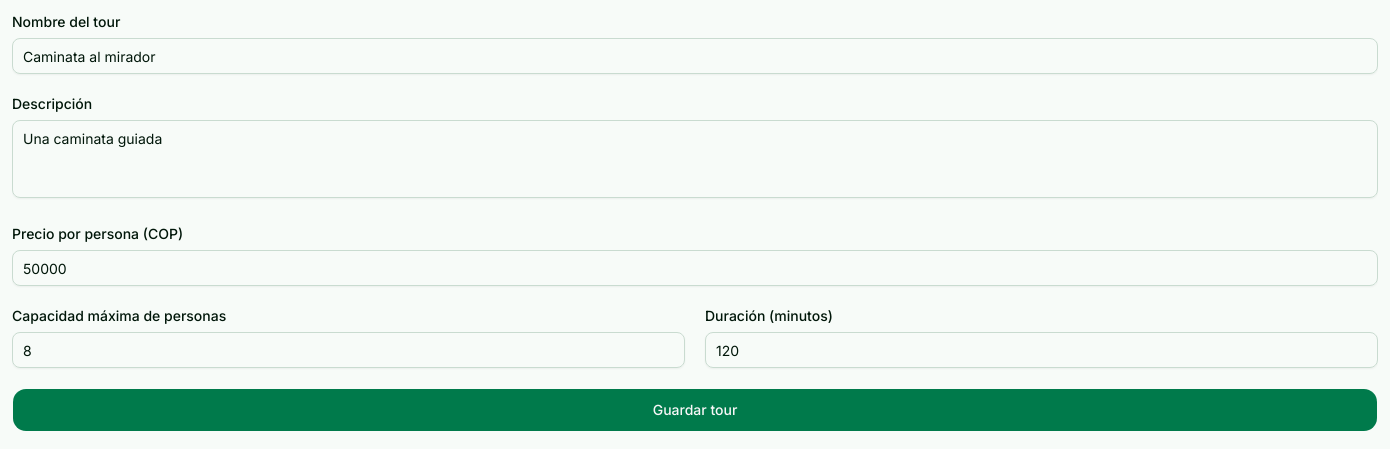
EditTourForm › disables the submit button and shows the pending label while the action is in flight
This screenshot has width=1390, height=449.
What coordinates should you click on to do the following:
click the button "Guardar tour"
I would click on:
 (695, 410)
Its box is [12,388,1378,432].
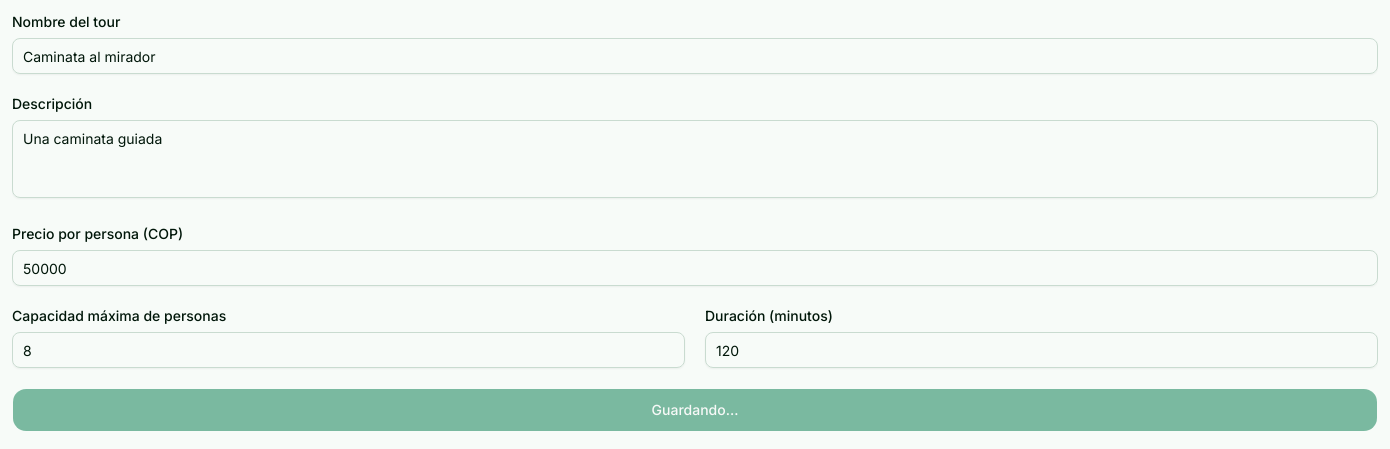
expect the button "Guardando..." is disabled: met, box [12,388,1378,432]
